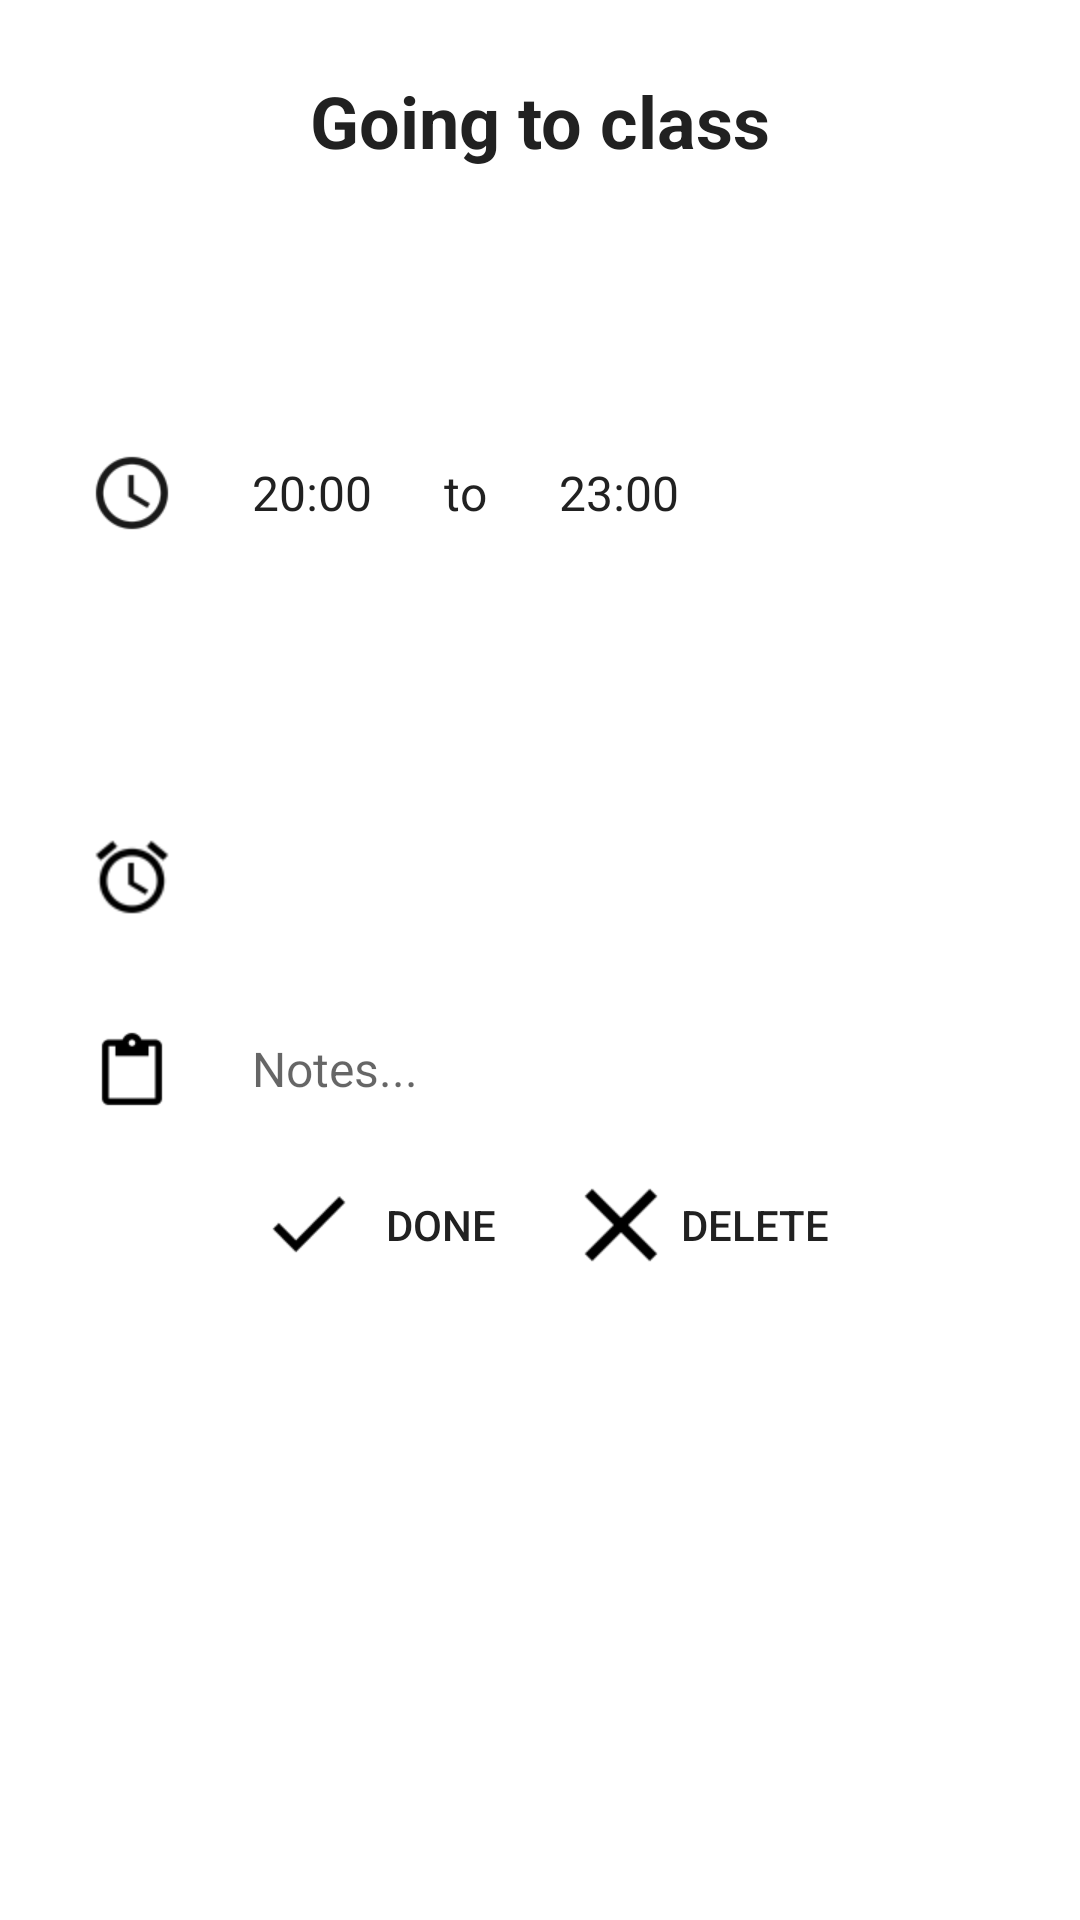

Icon click points for this 1080 × 1920 phone screenshot, format [x,y]:
alert: [132,877]
time: [132,493]
